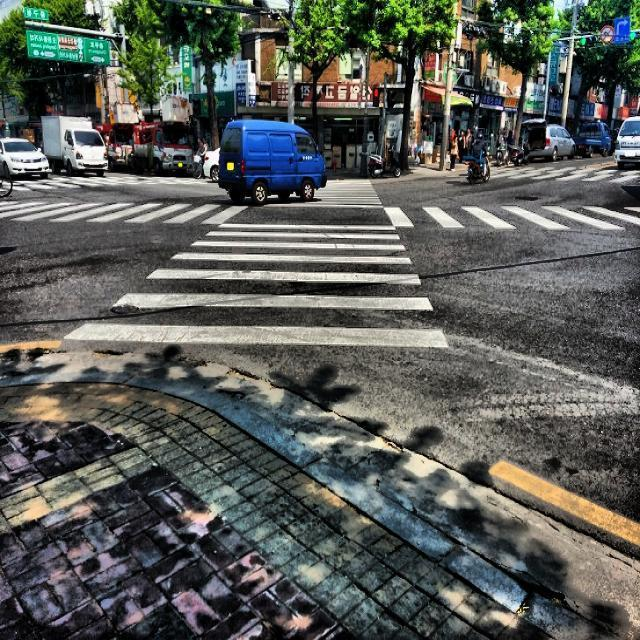crosswalk: (69, 220, 463, 347), (383, 201, 640, 230), (3, 196, 252, 222)
